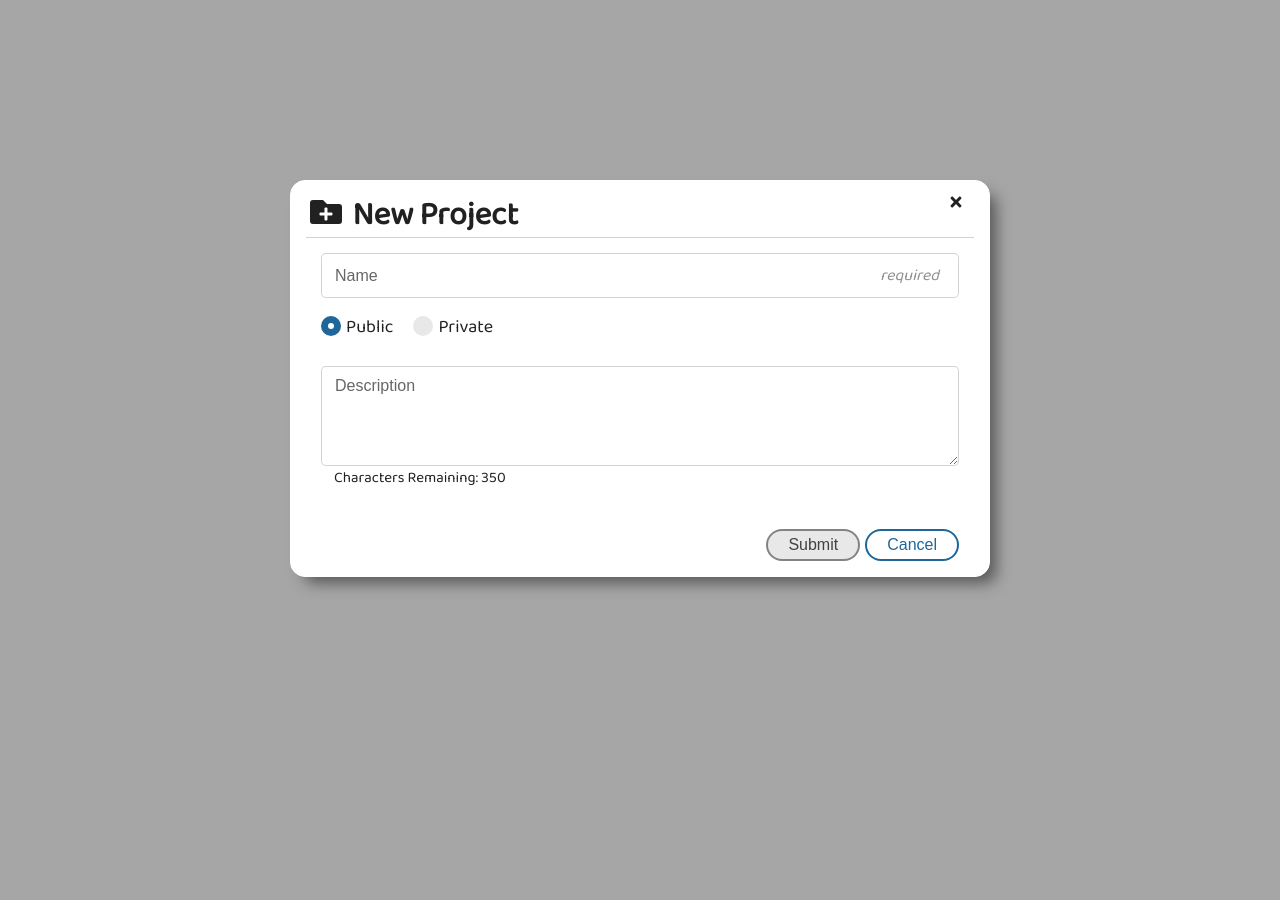
Test: <ProjectModal /> › should enable the submit button if all required input is present without input errors
In the field with test id "nameInput.input": point(640, 276) [321, 253, 959, 298], type "some name"
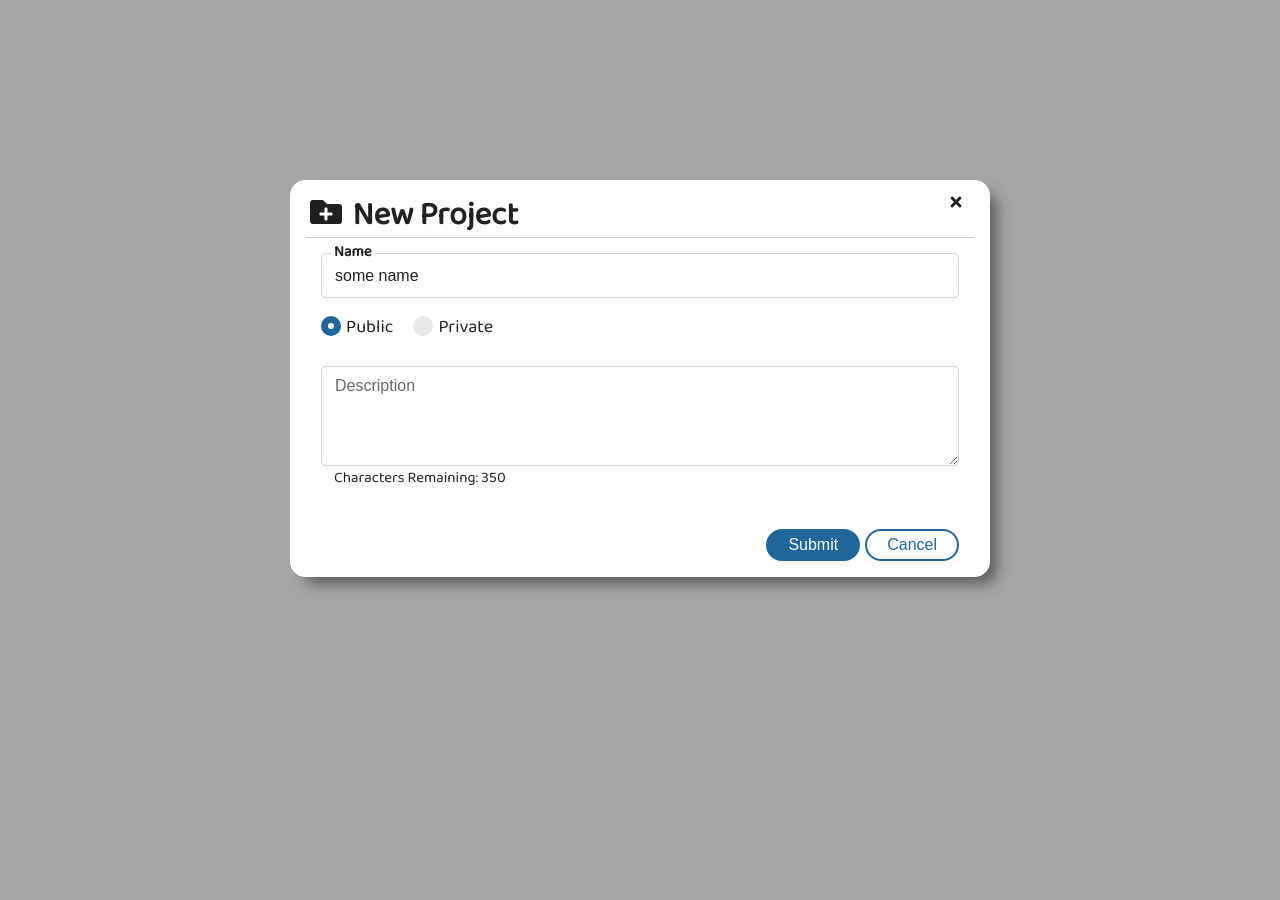
Expected: the button with test id "projectModal.actions.primaryButton" is enabled, [766, 529, 860, 561]
